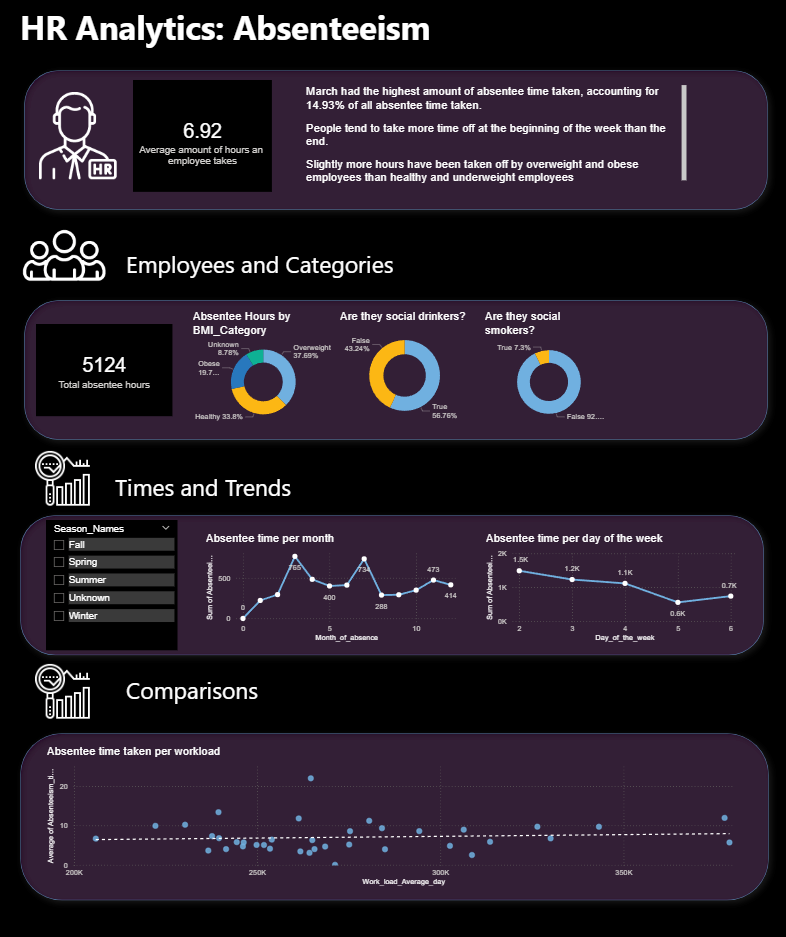

The page's visual inventory and layout, read from the dashboard file:
{"tool":"powerbi","page":{"name":"Page 1","canvas":[1280,1920],"ordinal":0},"visuals":[{"type":"shape","box":[24.4,221.5,1239.9,257.1],"z":0},{"type":"shape","box":[18,1300,1248,302],"z":1000},{"type":"shape","box":[18,946,1240,258],"z":2000},{"type":"shape","box":[24.4,595.6,1239.9,257.1],"z":3000},{"type":"donutChart","fields":{"Category":["Query1.BMI_Category"],"Y":["Sum(Query1.Absenteeism_time_in_hours)"]},"box":[309.3,627.1,238.6,192.1],"z":4000},{"type":"card","fields":{"Values":["Avg(Query1.Absenteeism_time_in_hours)"]},"box":[216,252,226,182],"z":5000},{"type":"donutChart","title":"Are they social drinkers?","fields":{"Y":["CountNonNull(Query1.Social_drinker)"],"Category":["Query1.Social_drinker"]},"box":[547.9,626.6,220,192],"z":6000},{"type":"donutChart","title":"Are they social smokers?","fields":{"Y":["CountNonNull(Query1.Social_smoker)"],"Category":["Query1.Social_smoker"]},"box":[785,627.1,217.9,192.1],"z":7000},{"type":"lineChart","title":"Absentee time per month","fields":{"Y":["Sum(Query1.Absenteeism_time_in_hours)"],"Category":["Query1.Month_of_absence"]},"box":[330.3,987.5,418.2,183.9],"z":8000},{"type":"lineChart","title":"Absentee time per day of the week","fields":{"Y":["Sum(Query1.Absenteeism_time_in_hours)"],"Category":["Query1.Day_of_the_week"]},"box":[785.9,987.5,418.2,183.9],"z":9000},{"type":"scatterChart","title":"Absentee time taken per workload","fields":{"X":["Query1.Work_load_Average_day"],"Y":["Avg(Query1.Absenteeism_time_in_hours)"]},"box":[72,1334,1142,234],"z":10000},{"type":"slicer","fields":{"Values":["Query1.Season_Names"]},"box":[75,968.6,214.3,212.1],"z":11000},{"type":"textbox","box":[28,124,1156,98],"z":12000},{"type":"textbox","box":[200,520,1030,62],"z":13000},{"type":"textbox","box":[182,884,732,62],"z":14000},{"type":"textbox","box":[200,1214,1066,62],"z":15000},{"type":"image","box":[46,272,162,142],"z":16000},{"type":"image","box":[46,854,112,92],"z":17000},{"type":"image","box":[28,468,154,138],"z":18000},{"type":"card","title":"Total Absentee Hours","fields":{"Values":["Sum(Query1.Absenteeism_time_in_hours)"]},"box":[57.9,648.6,222,150],"z":19000},{"type":"image","box":[46,1200,112,92],"z":20000},{"type":"textbox","box":[493.6,255,629.3,189.3],"z":21000}]}

Visuals, with their boxes on the page's 1280x1920 design canvas (x1, y1, x2, y2). These are canvas units, not pixel positions in the 786x937 screenshot, which may show the page scaled, cropped or inside an application window:
shape: (x1=24, y1=222, x2=1264, y2=479)
shape: (x1=18, y1=1300, x2=1266, y2=1602)
shape: (x1=18, y1=946, x2=1258, y2=1204)
shape: (x1=24, y1=596, x2=1264, y2=853)
donutChart - Query1.BMI_Category x Sum(Query1.Absenteeism_time_in_hours): (x1=309, y1=627, x2=548, y2=819)
card - Avg(Query1.Absenteeism_time_in_hours): (x1=216, y1=252, x2=442, y2=434)
"Are they social drinkers?" donutChart: (x1=548, y1=627, x2=768, y2=819)
"Are they social smokers?" donutChart: (x1=785, y1=627, x2=1003, y2=819)
"Absentee time per month" lineChart: (x1=330, y1=988, x2=748, y2=1171)
"Absentee time per day of the week" lineChart: (x1=786, y1=988, x2=1204, y2=1171)
"Absentee time taken per workload" scatterChart: (x1=72, y1=1334, x2=1214, y2=1568)
slicer - Query1.Season_Names: (x1=75, y1=969, x2=289, y2=1181)
textbox: (x1=28, y1=124, x2=1184, y2=222)
textbox: (x1=200, y1=520, x2=1230, y2=582)
textbox: (x1=182, y1=884, x2=914, y2=946)
textbox: (x1=200, y1=1214, x2=1266, y2=1276)
image: (x1=46, y1=272, x2=208, y2=414)
image: (x1=46, y1=854, x2=158, y2=946)
image: (x1=28, y1=468, x2=182, y2=606)
"Total Absentee Hours" card: (x1=58, y1=649, x2=280, y2=799)
image: (x1=46, y1=1200, x2=158, y2=1292)
textbox: (x1=494, y1=255, x2=1123, y2=444)
